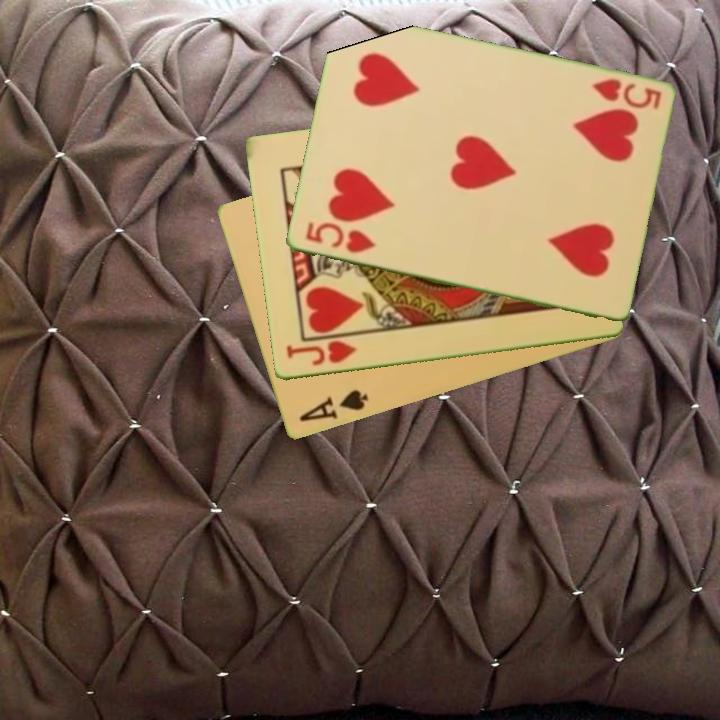5h: (301, 219, 378, 257), (588, 75, 664, 112)
As: (295, 387, 371, 426)
Jh: (282, 337, 358, 369)
